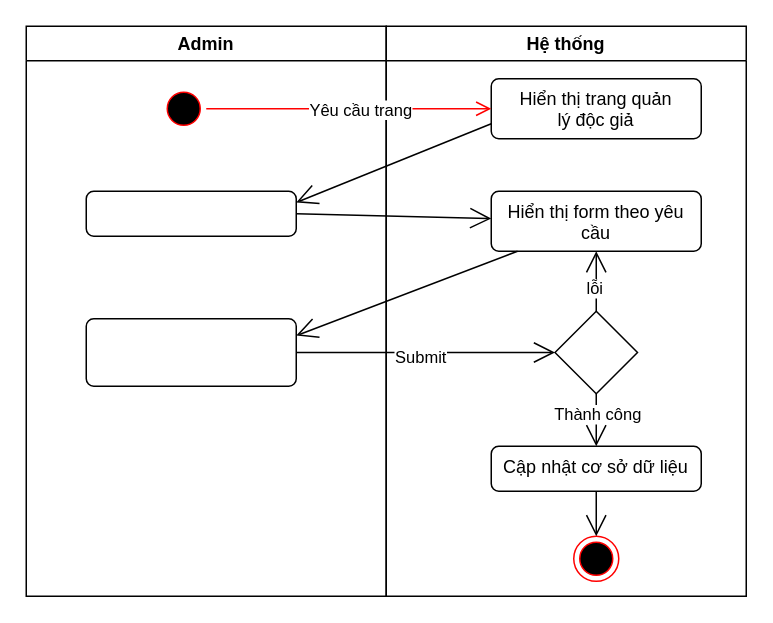
This 773x623 diagram has some shape labels left out. The shapes that lost their labels are listed below. From the top down, each one's centre as x and y in pixels, then its label:
the point at 190,213: Chọn thêm độc giả
the point at 190,351: Nhập thông tin độc giả
the point at 596,352: kiểm tra
